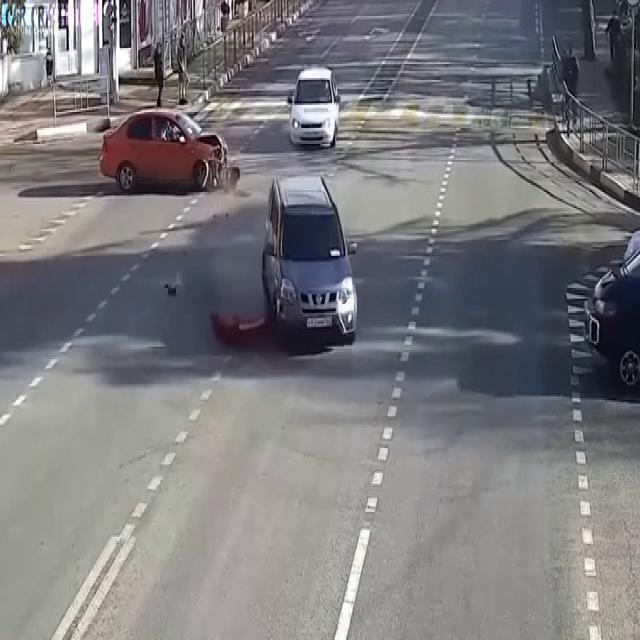multiple_accident: (36, 25, 419, 413)
